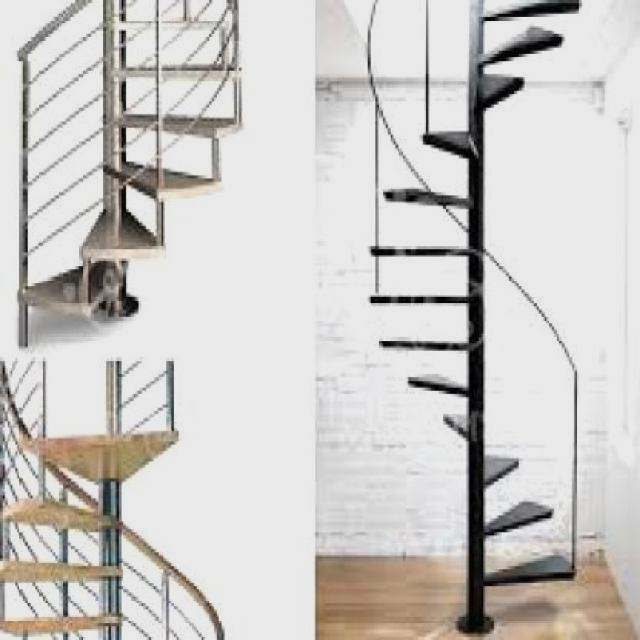stair: (358, 0, 605, 611), (10, 0, 282, 337)
